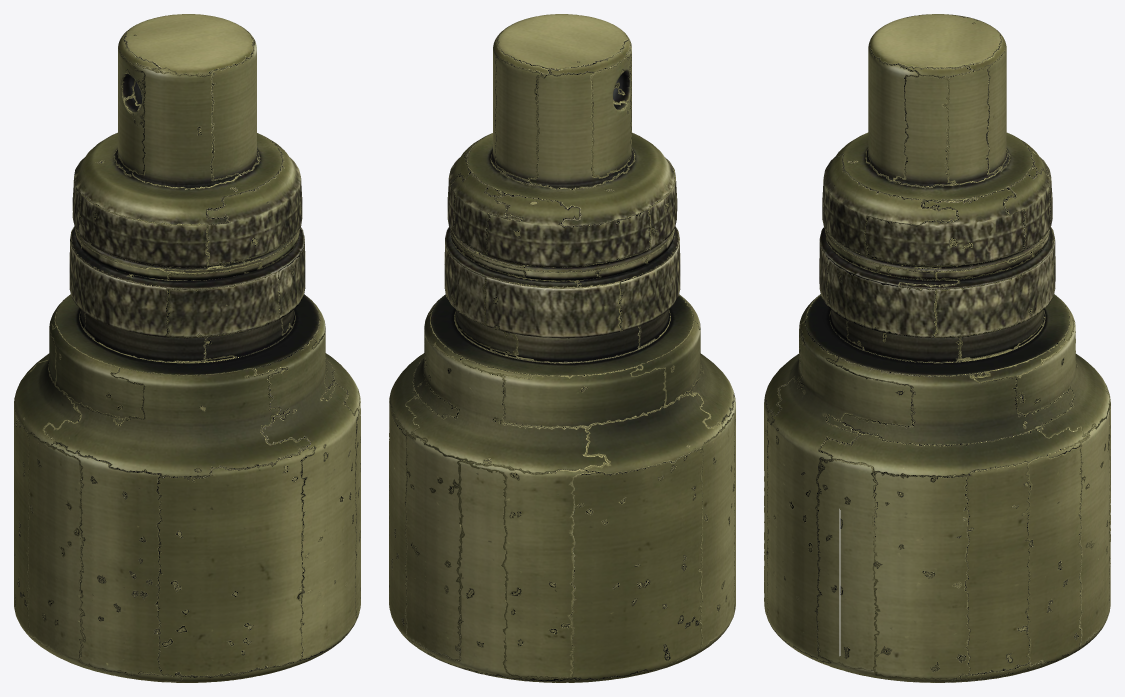
3 views of the same model, side by side, from view 1: azimuth 30°, elevation 25°; view 2: azimuth 150°, elevation 25°; view 3: azimuth 270°, elevation 25° (orthographic).
Bounding box in the file's own units: 0.9727 × 1.77 × 0.972.
1 material, 1 textured.
